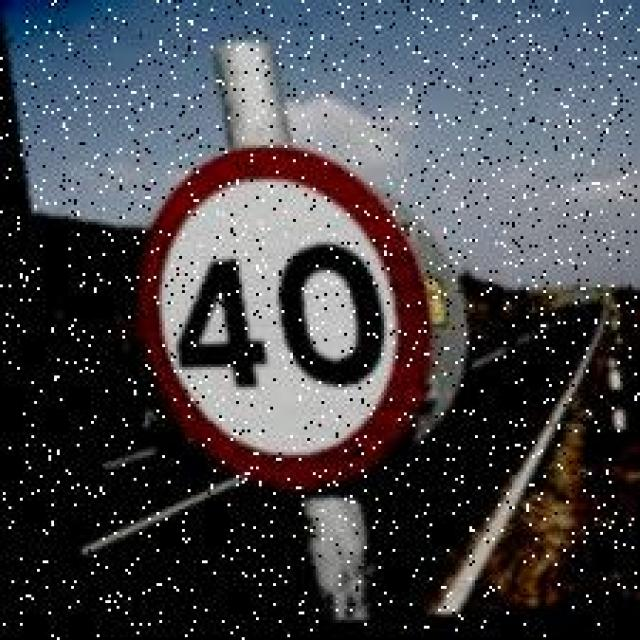speed limit 40: (137, 146, 426, 486)
